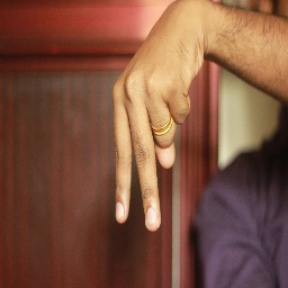Y: (92, 42, 200, 236)
